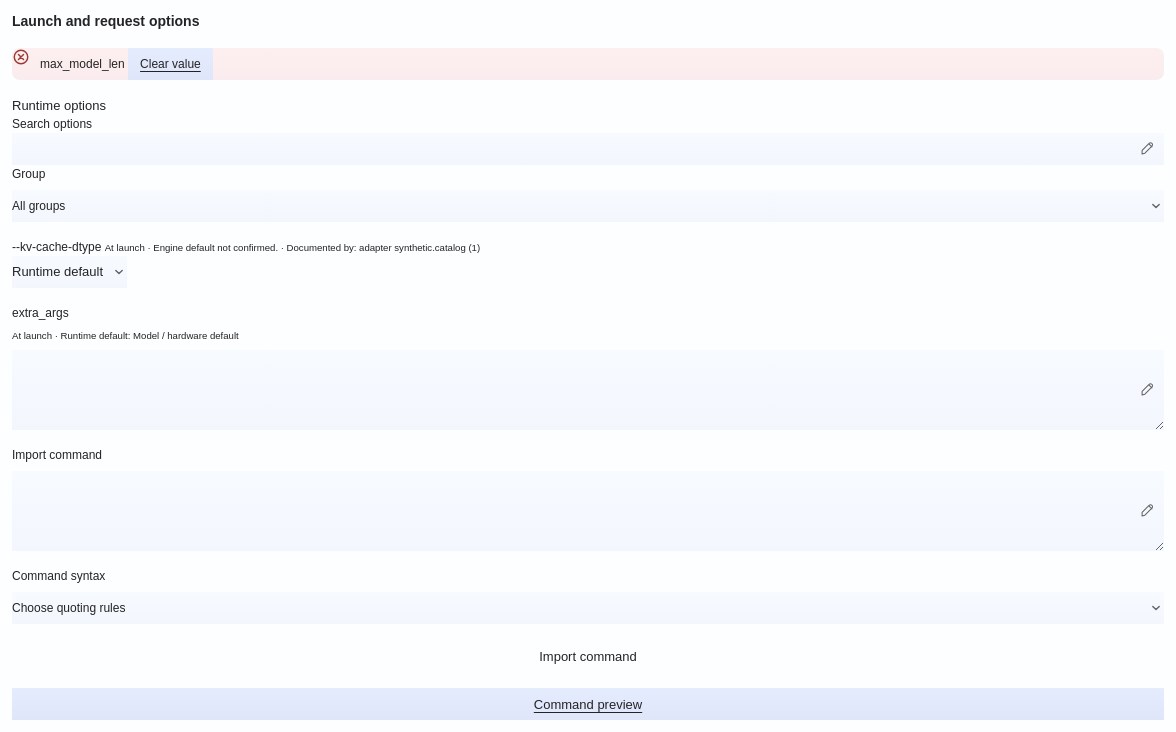
Test: runtime-specific option controls › uses the selected Metal option schema even when the generic vLLM flag exists
The image size is (1176, 732).
Click the dropdown named "--kv-cache-dtype" at (70, 272), box x1=12 y1=256 x2=127 y2=288
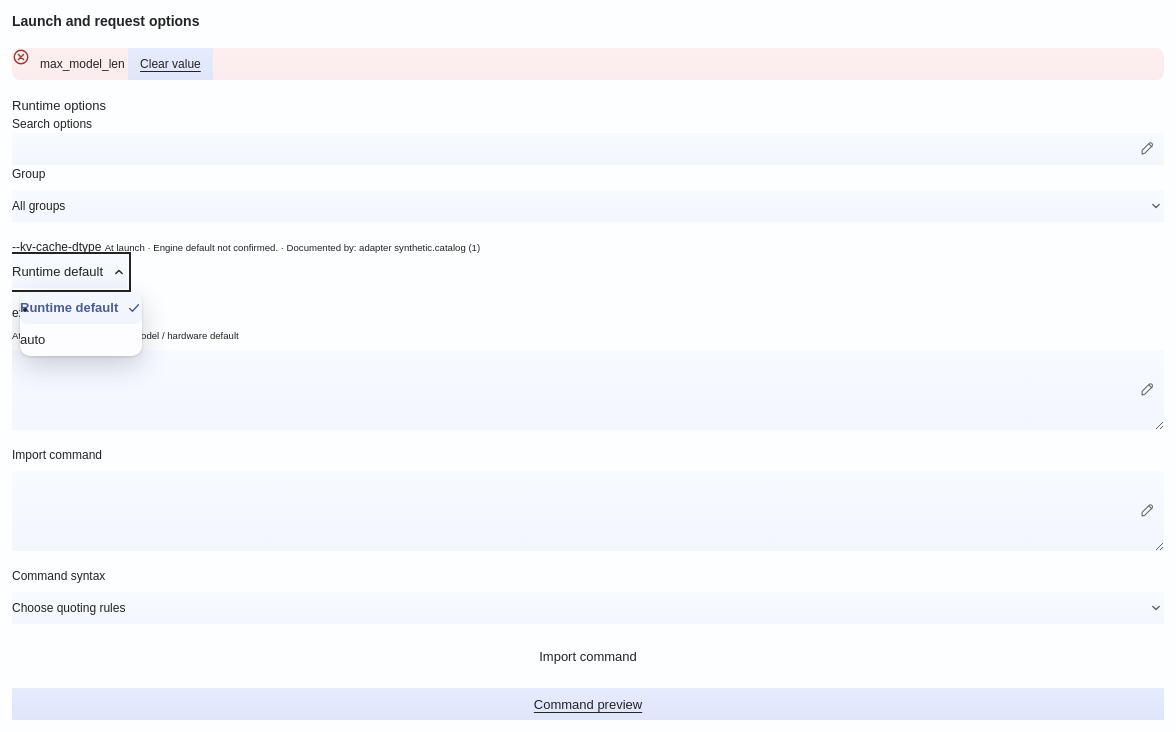
Expected: the text "max_model_len" is shown, x1=40 y1=57 x2=125 y2=71
Now the option "auto" is shown, box x1=20 y1=332 x2=45 y2=347
